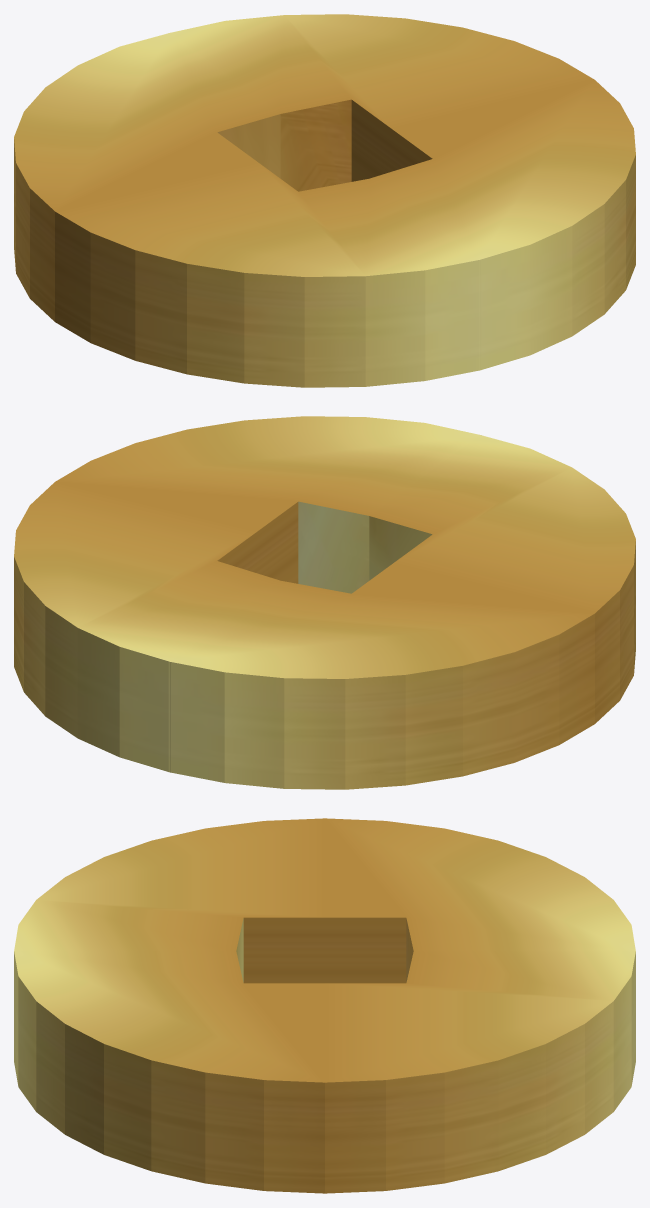
The model's file is gold coin.fbx.
3 views of the same model, one above another, from view 1: azimuth 30°, elevation 25°; view 2: azimuth 150°, elevation 25°; view 3: azimuth 270°, elevation 25° (orthographic).
Visible parts, largest first — view 1: Cylinder; view 2: Cylinder; view 3: Cylinder.
Boxes of the visible parts, bbox=[...] form: Cylinder: bbox=[14, 14, 635, 387]; Cylinder: bbox=[14, 416, 635, 789]; Cylinder: bbox=[14, 818, 635, 1193].
Size of the model in its own units: 4.03 by 0.7937 by 4.01.
Materials: 1 (1 with a texture image).
